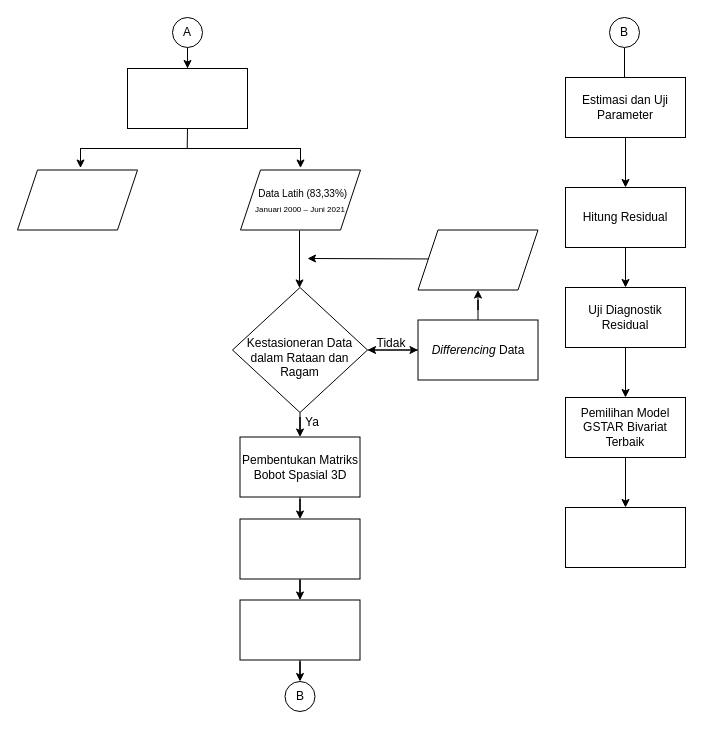
This 703x729 diagram has some shape labels left out. Here are the shapes that lost their labels. From the top down, the centre of each, then its label:
At (x=187, y=98): "Split Data".
At (x=77, y=199): "Data Uji (16,67%) Juli 2021-Oktober 2025".
At (x=477, y=259): "Data Hasil Differencing".
At (x=299, y=548): "Plot STACF dan STPACF".
At (x=625, y=537): "Validasi Model GSTAR Terbaik".
At (x=299, y=629): "Identifikasi Model GSTAR Bivariat".
